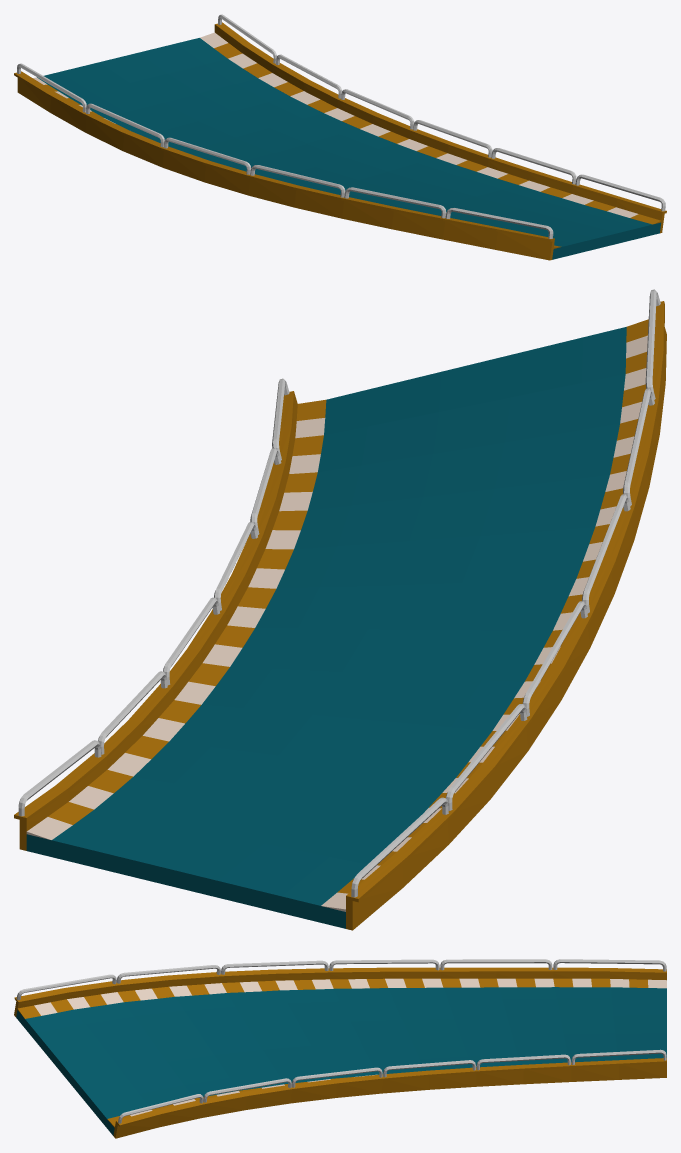
The model's file is curveLeft-30-Banked-15.FBX.
3 views of the same model, one above another, from view 1: azimuth 30°, elevation 25°; view 2: azimuth 150°, elevation 25°; view 3: azimuth 270°, elevation 25° (orthographic). The views are drawn at different scales.
Visible parts, largest first — view 1: curveLeft-30-banked-15, wall_r, wall_l, curbs_l; view 2: curveLeft-30-banked-15, wall_r, wall_l, curbs_l, curbs_r; view 3: curveLeft-30-banked-15, wall_l, wall_r, curbs_r, curbs_l.
Part boxes in pixels (<box>): curveLeft-30-banked-15: <box>37,38,661,259</box>; wall_r: <box>14,63,554,260</box>; wall_l: <box>214,14,666,233</box>; curbs_l: <box>200,32,661,224</box>; curveLeft-30-banked-15: <box>26,327,626,928</box>; wall_r: <box>346,289,666,930</box>; wall_l: <box>14,378,297,850</box>; curbs_l: <box>26,399,326,839</box>; curbs_r: <box>321,319,648,911</box>; curveLeft-30-banked-15: <box>16,987,666,1135</box>; wall_l: <box>113,1049,666,1138</box>; wall_r: <box>14,959,666,1016</box>; curbs_r: <box>17,978,666,1018</box>; curbs_l: <box>107,1074,377,1127</box>.
Size of what is drawn, in the model's own units: 348 by 82.76 by 621.
